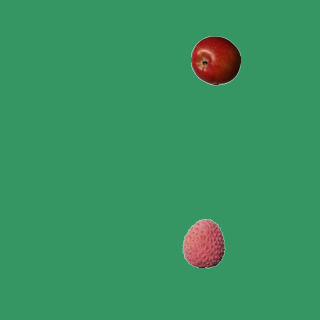Apple Braeburn: (190, 35, 240, 85)
Lychee: (178, 218, 228, 268)
